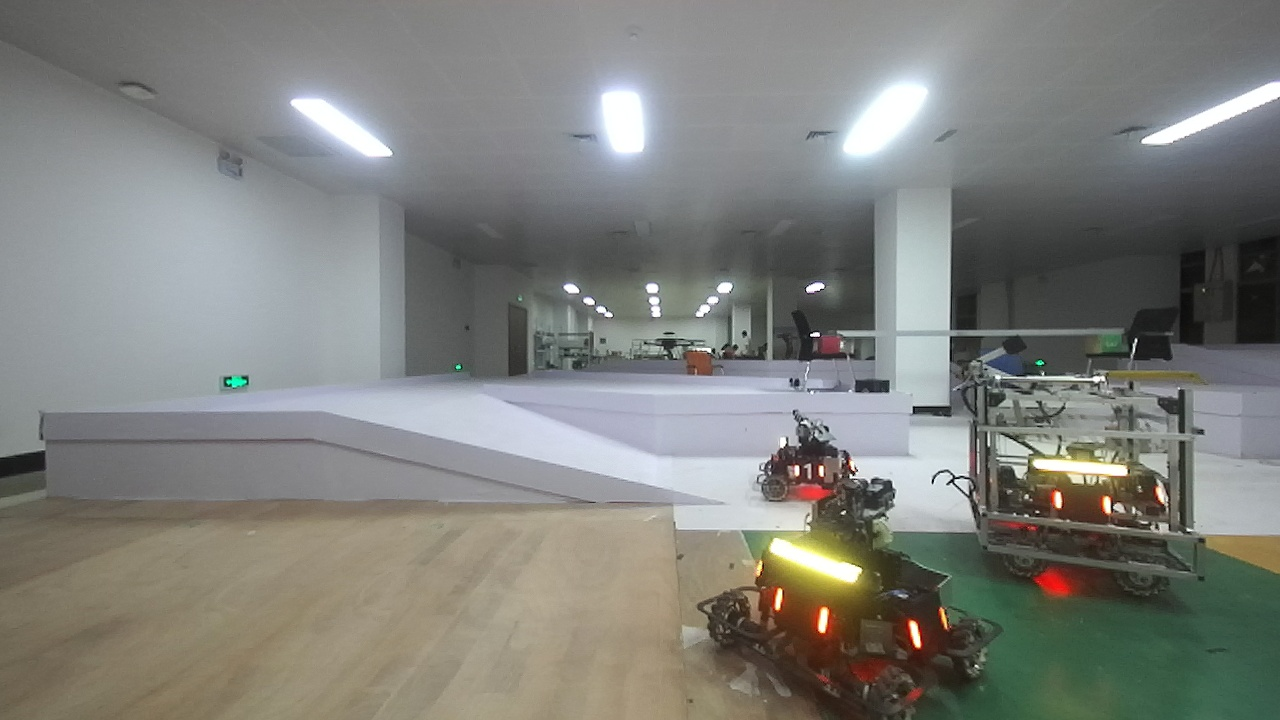car: (953, 342, 1212, 602), (715, 501, 1003, 720), (736, 413, 876, 519)
